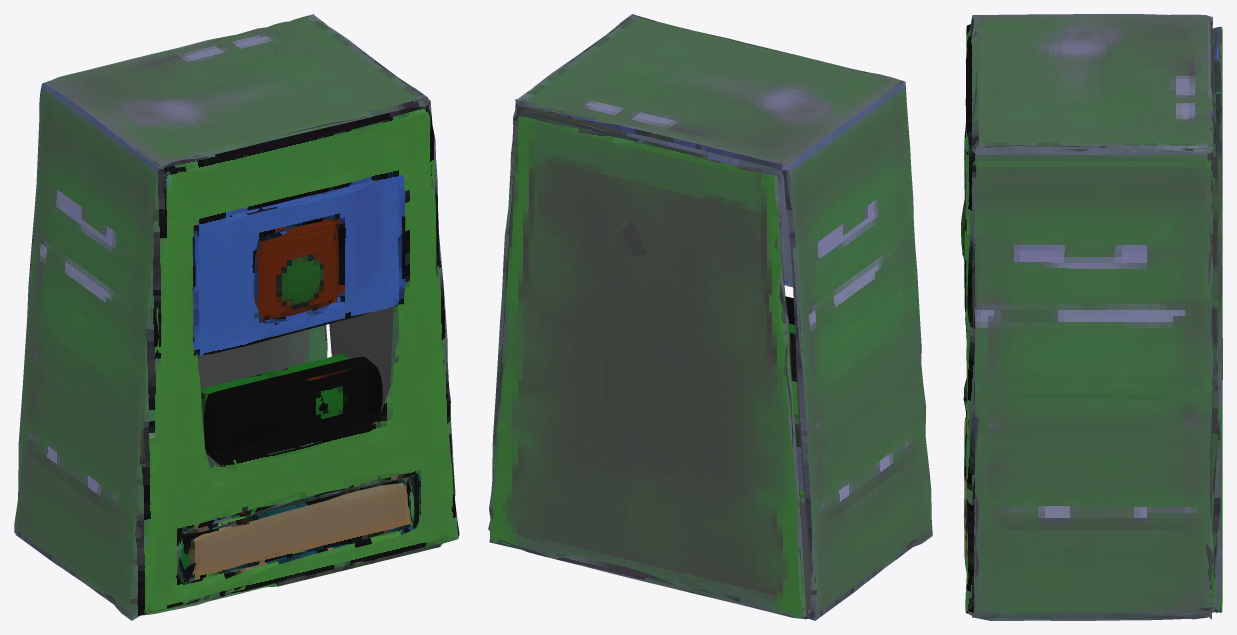
The model's file is Arcade_LanternLeap_QuadRetro.glb.
The picture shows the model from 3 angles, left to right: view 1: azimuth 30°, elevation 25°; view 2: azimuth 150°, elevation 25°; view 3: azimuth 270°, elevation 25°; orthographic projection. The views are drawn at different scales.
Parts seen in each view (by area): view 1: Arcade_LanternLeap_QuadRemesh; view 2: Arcade_LanternLeap_QuadRemesh; view 3: Arcade_LanternLeap_QuadRemesh.
Part boxes in pixels (x1,y1,x2,y2): Arcade_LanternLeap_QuadRemesh: [14, 14, 459, 620]; Arcade_LanternLeap_QuadRemesh: [488, 14, 932, 620]; Arcade_LanternLeap_QuadRemesh: [961, 14, 1222, 620].
Size of the model in its own units: 1.53 by 2 by 1.03.
1 material, 1 textured.
